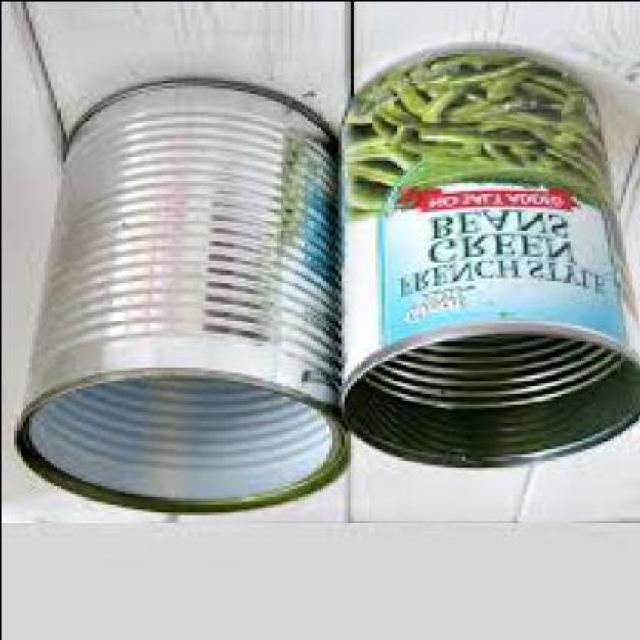METAL: (12, 79, 346, 516), (331, 50, 637, 475)
